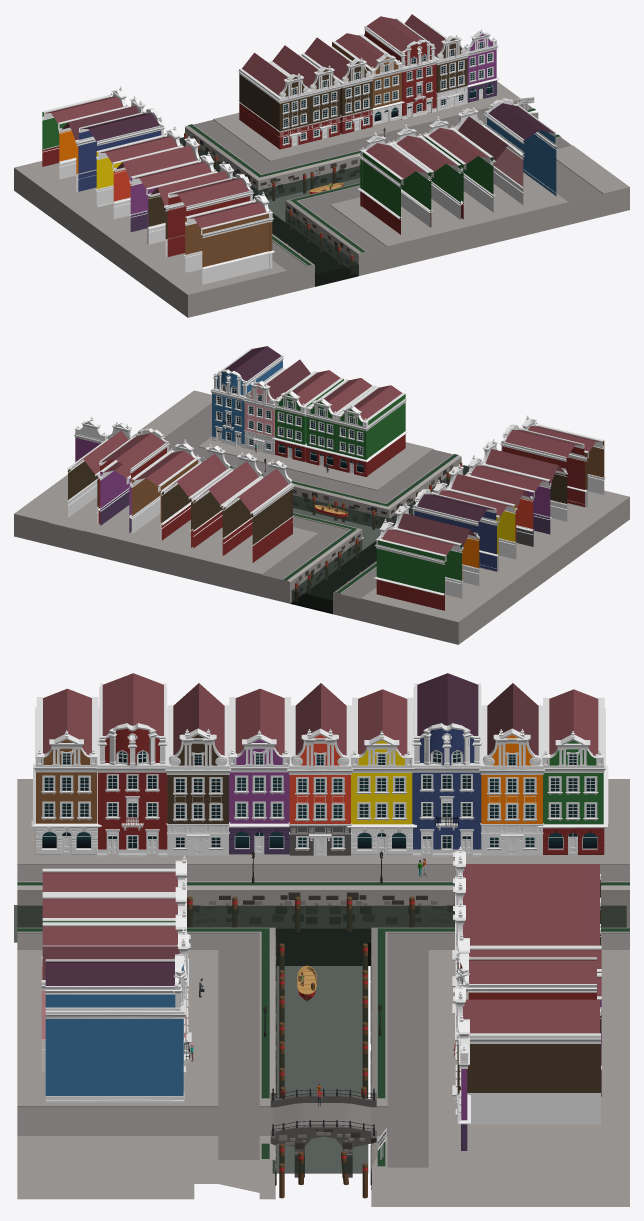
The model's file is base-ams-14.glb.
3 renders of one model, top to bottom at view 1: azimuth 30°, elevation 25°; view 2: azimuth 150°, elevation 25°; view 3: azimuth 270°, elevation 25°, orthographic. The views are drawn at different scales.
Parts seen in each view (by area): view 1: Ground, Parts_geo_25_New_color_palette_mat_0.004, Water_geo, Parts_geo_10_New_color_palette_mat_0.002, Parts_geo_14_New_color_palette_mat_0.005, Parts_geo_28_New_color_palette_mat_0.002, Parts_geo_14_New_color_palette_mat_0.004, Parts_geo_23_New_color_palette_mat_0.004, Parts_geo_10_New_color_palette_mat_0.009, Parts_geo_10_New_color_palette_mat_0.001, Parts_geo_22_New_color_palette_mat_0.001, Parts_geo_01_New_color_palette_mat_0.005 (+17 smaller); view 2: Ground, Parts_geo_10_New_color_palette_mat_0.007, Water_geo, Parts_geo_28_New_color_palette_mat_0.002, Parts_geo_10_New_color_palette_mat_0.002, Parts_geo_23_New_color_palette_mat_0.004, Parts_geo_14_New_color_palette_mat_0.004, Parts_geo_25_New_color_palette_mat_0.005, Parts_geo_28_New_color_palette_mat_0.003, Parts_geo_28_New_color_palette_mat_0.001, Parts_geo_13, Parts_geo_07_New_color_palette_mat_0.005 (+17 smaller); view 3: Ground, Water_geo, Parts_geo_14_New_color_palette_mat_0.005, Parts_geo_19_New_color_palette_mat_0.005, Parts_geo_22_New_color_palette_mat_0.003, Parts_geo_13_New_color_palette_mat_0.003, Parts_geo_20_New_color_palette_mat_0.003, Parts_geo_02_New_color_palette_mat_0.003, Parts_geo_17_New_color_palette_mat_0.003, Parts_geo_26_New_color_palette_mat_0.003, Parts_geo_11_New_color_palette_mat_0.005, Parts_geo_11_New_color_palette_mat_0.006 (+22 smaller).
Part boxes in pixels (bbox=[...]): Ground: bbox=[14, 81, 629, 317]; Parts_geo_25_New_color_palette_mat_0.004: bbox=[184, 200, 268, 284]; Water_geo: bbox=[179, 137, 360, 286]; Parts_geo_10_New_color_palette_mat_0.002: bbox=[361, 143, 432, 234]; Parts_geo_14_New_color_palette_mat_0.005: bbox=[485, 103, 557, 196]; Parts_geo_28_New_color_palette_mat_0.002: bbox=[238, 52, 288, 147]; Parts_geo_14_New_color_palette_mat_0.004: bbox=[78, 112, 160, 207]; Parts_geo_23_New_color_palette_mat_0.004: bbox=[167, 178, 249, 272]; Parts_geo_10_New_color_palette_mat_0.009: bbox=[425, 128, 495, 219]; Parts_geo_10_New_color_palette_mat_0.001: bbox=[393, 135, 462, 226]; Parts_geo_22_New_color_palette_mat_0.001: bbox=[399, 39, 436, 119]; Parts_geo_01_New_color_palette_mat_0.005: bbox=[458, 116, 524, 211]; Ground: bbox=[14, 390, 629, 644]; Parts_geo_10_New_color_palette_mat_0.007: bbox=[377, 528, 462, 610]; Water_geo: bbox=[291, 465, 469, 612]; Parts_geo_28_New_color_palette_mat_0.002: bbox=[222, 468, 292, 562]; Parts_geo_10_New_color_palette_mat_0.002: bbox=[340, 385, 407, 474]; Parts_geo_23_New_color_palette_mat_0.004: bbox=[502, 429, 585, 507]; Parts_geo_14_New_color_palette_mat_0.004: bbox=[414, 493, 497, 571]; Parts_geo_25_New_color_palette_mat_0.005: bbox=[129, 450, 197, 540]; Parts_geo_28_New_color_palette_mat_0.003: bbox=[160, 453, 229, 547]; Parts_geo_28_New_color_palette_mat_0.001: bbox=[192, 461, 260, 555]; Parts_geo_13: bbox=[210, 369, 248, 448]; Parts_geo_07_New_color_palette_mat_0.005: bbox=[468, 464, 551, 546]; Ground: bbox=[17, 779, 629, 1206]; Water_geo: bbox=[14, 905, 626, 1173]; Parts_geo_14_New_color_palette_mat_0.005: bbox=[45, 959, 177, 1102]; Parts_geo_19_New_color_palette_mat_0.005: bbox=[458, 999, 600, 1124]; Parts_geo_22_New_color_palette_mat_0.003: bbox=[95, 723, 167, 856]; Parts_geo_13_New_color_palette_mat_0.003: bbox=[410, 723, 482, 856]; Parts_geo_20_New_color_palette_mat_0.003: bbox=[165, 728, 230, 855]; Parts_geo_02_New_color_palette_mat_0.003: bbox=[479, 728, 544, 855]; Parts_geo_17_New_color_palette_mat_0.003: bbox=[287, 728, 353, 855]; Parts_geo_26_New_color_palette_mat_0.003: bbox=[31, 730, 101, 854]; Parts_geo_11_New_color_palette_mat_0.005: bbox=[346, 731, 416, 854]; Parts_geo_11_New_color_palette_mat_0.006: bbox=[538, 731, 607, 854].
Bounding box in the file's own units: 27.24 × 5.63 × 18.3.
13 materials, 11 textured.
